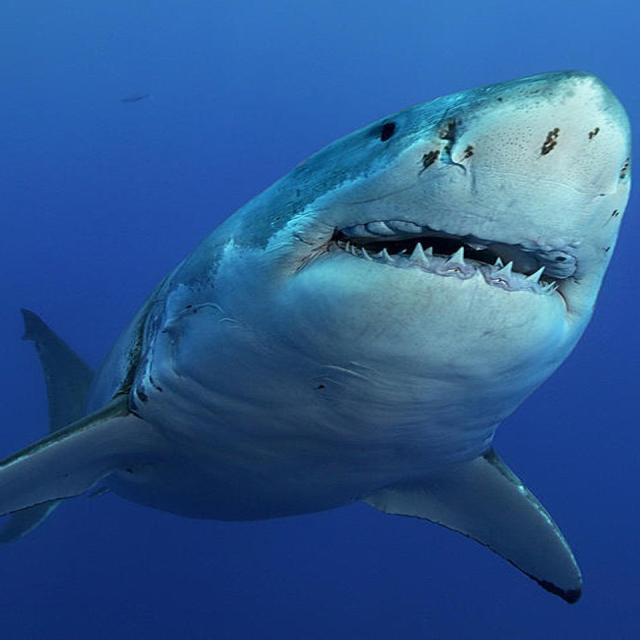shark: (0, 71, 631, 602)
